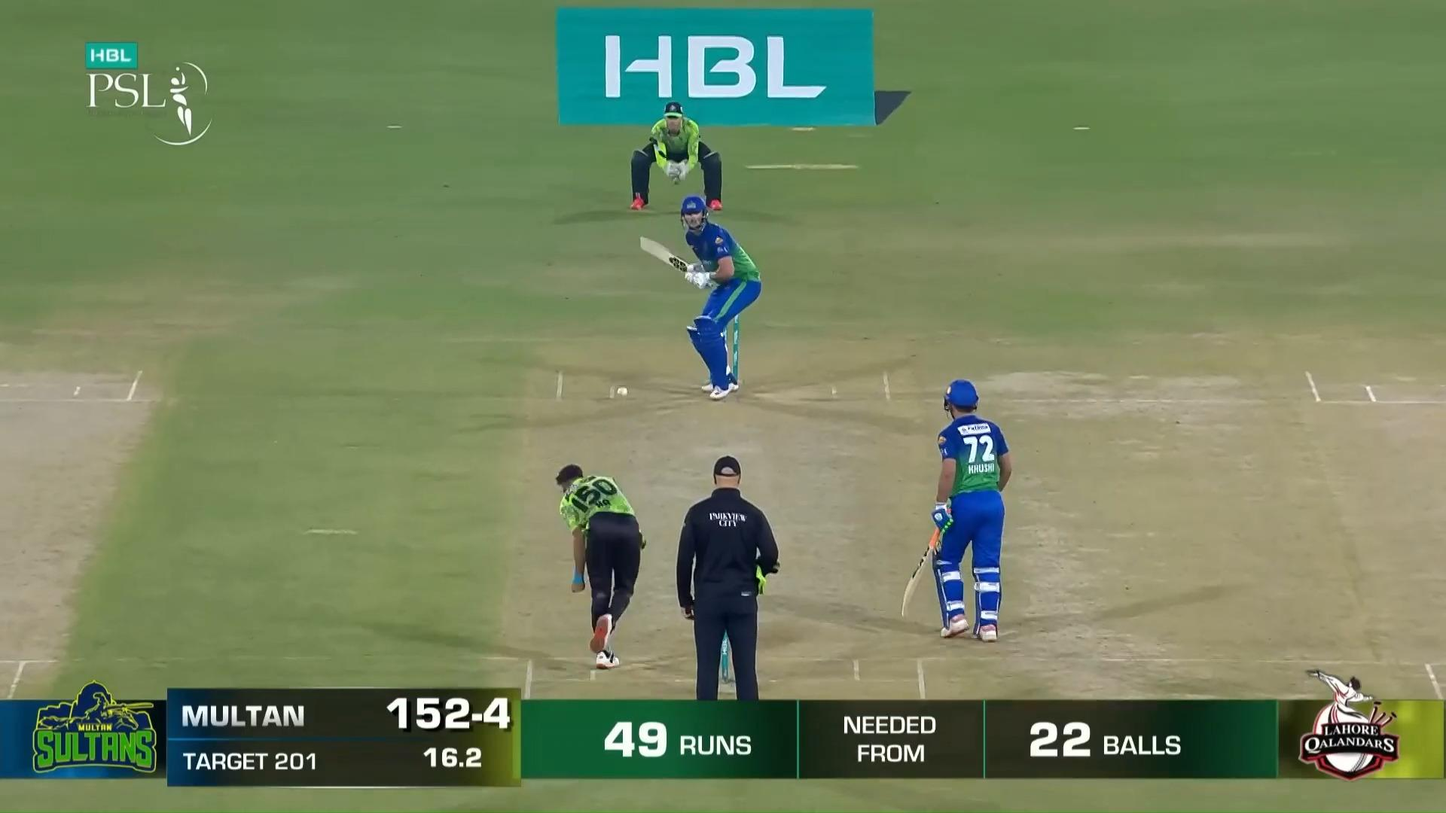batsman: (639, 195, 762, 401)
